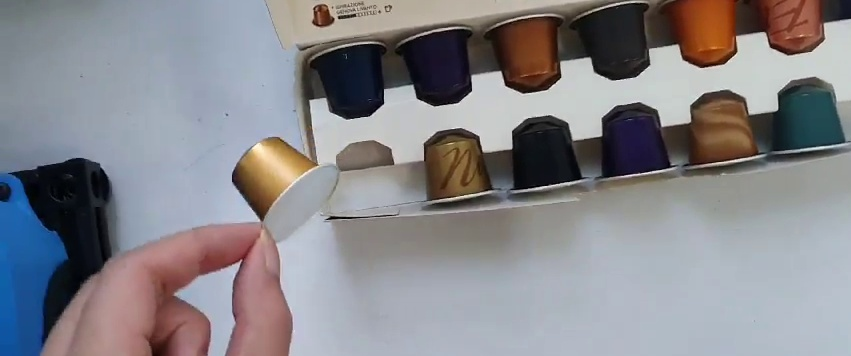capsule_8: (231, 134, 344, 245)
